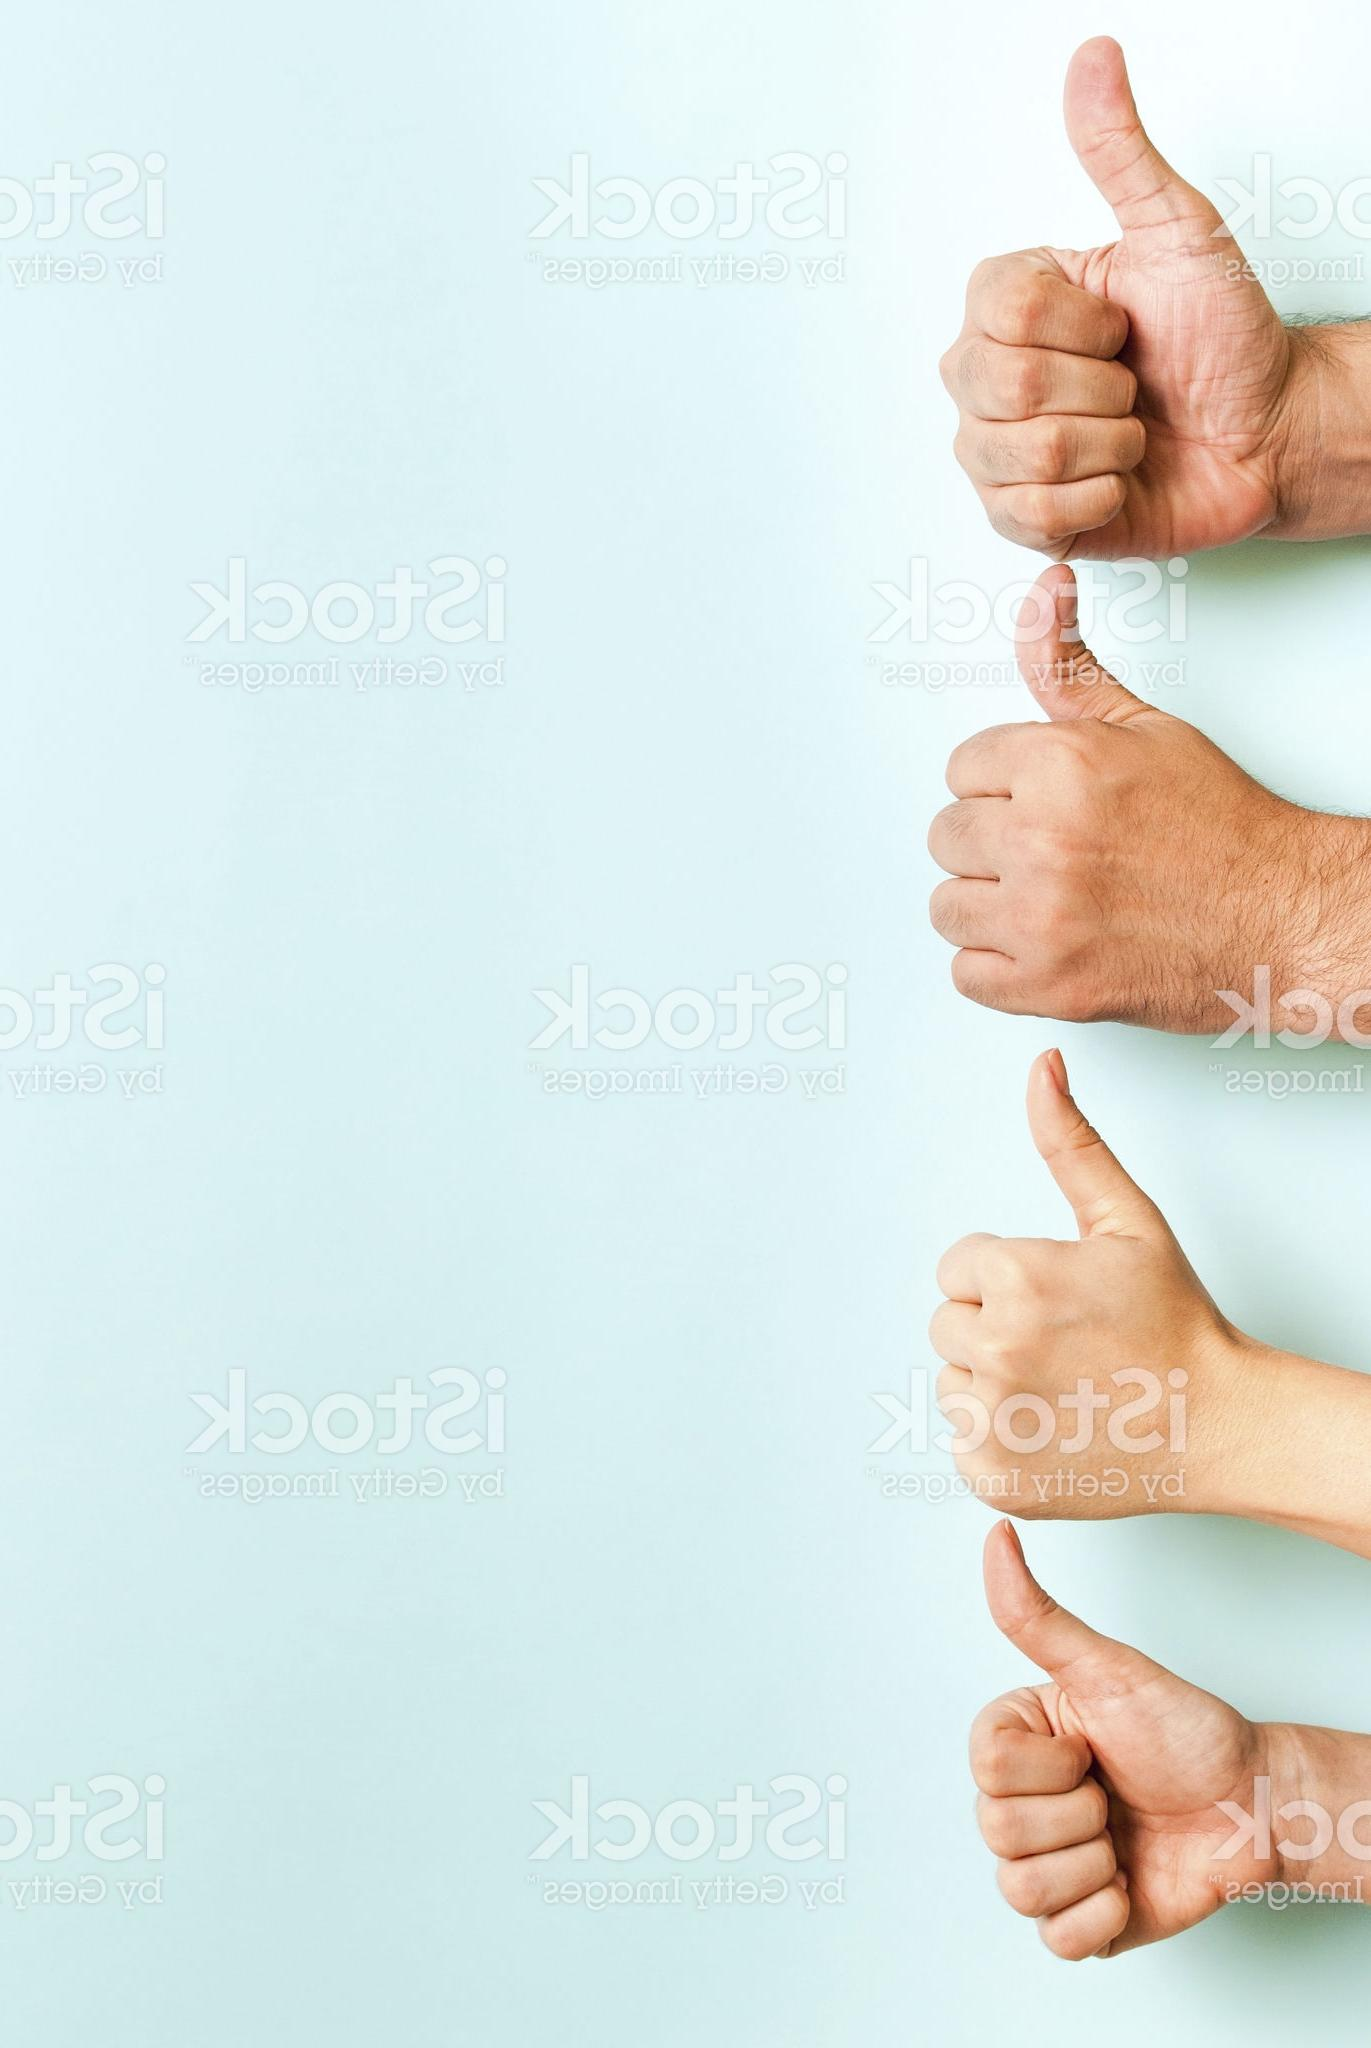thumbsup: (935, 32, 1220, 560), (972, 1517, 1177, 1965)
